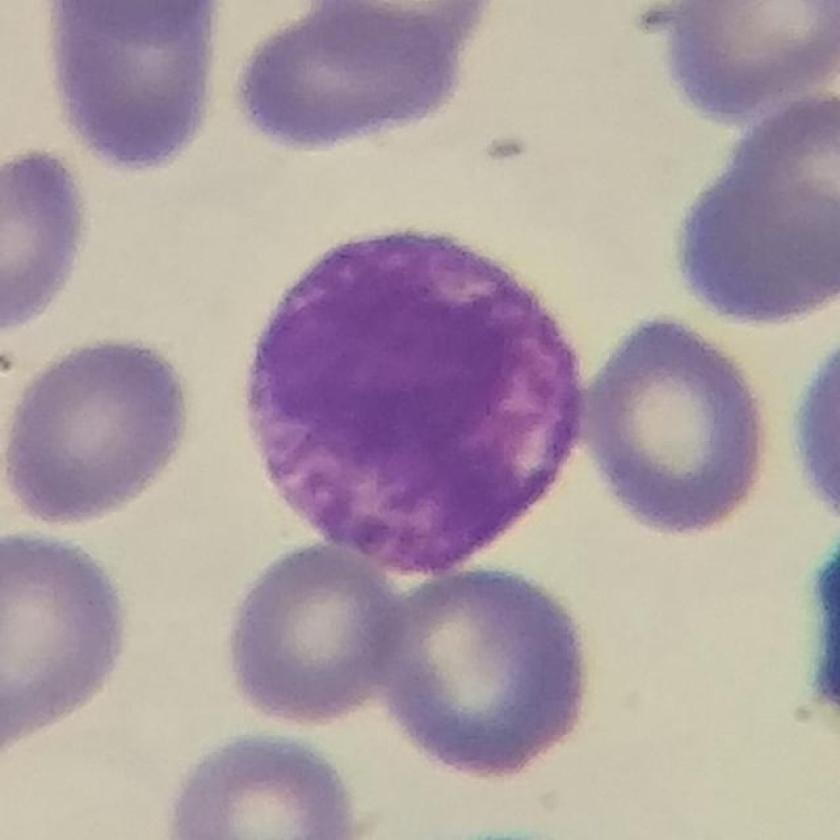basophil: (231, 208, 604, 589)
